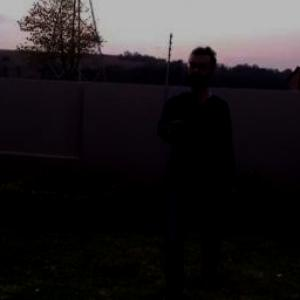takeoff-hand: (162, 101, 193, 137)
